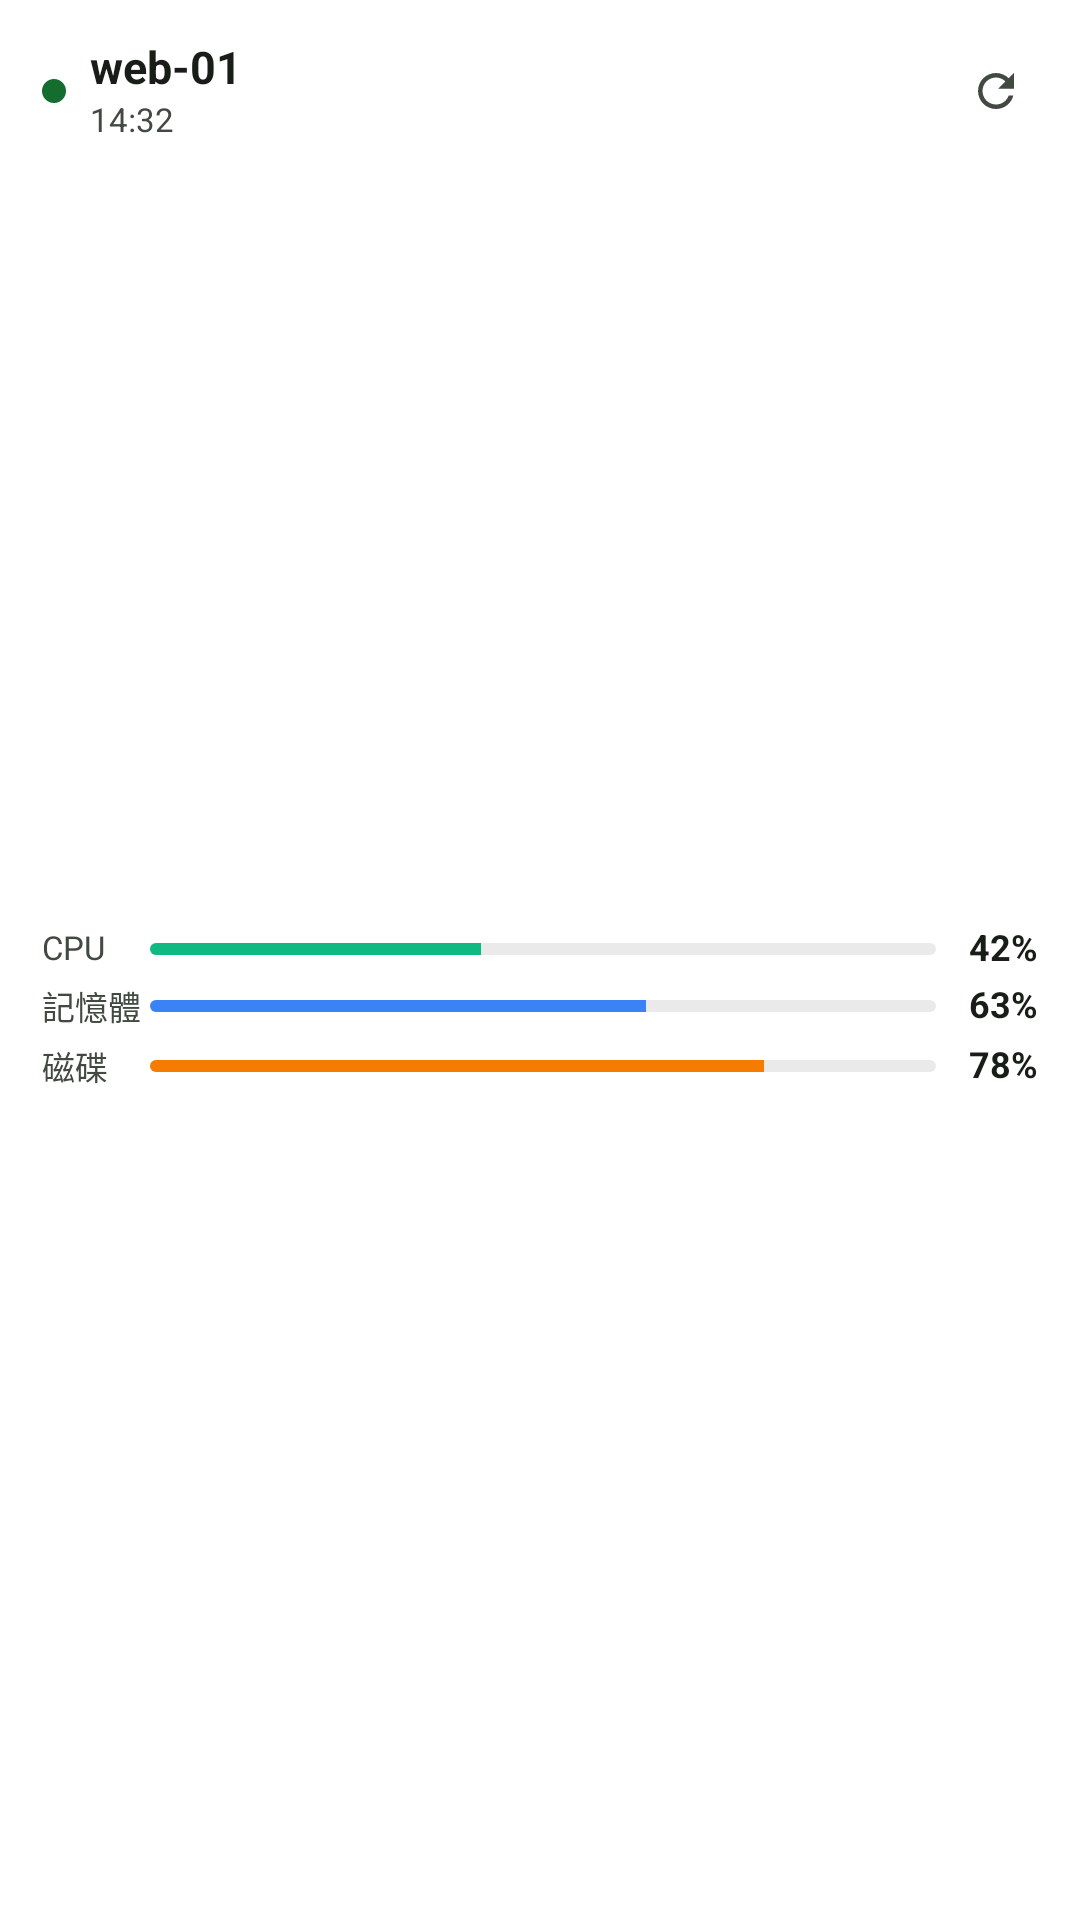

Screen size 1080px x 1920px. Icon name, then its center in pixels as point (x, y):
widget dot online: point (54, 91)
widget refresh: point (996, 91)
